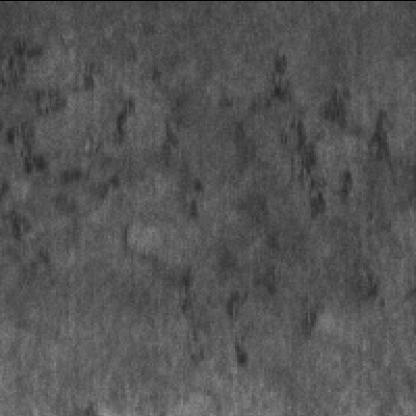rolled-in_scale: (160, 73, 278, 362), (9, 35, 141, 252), (266, 46, 408, 236)
